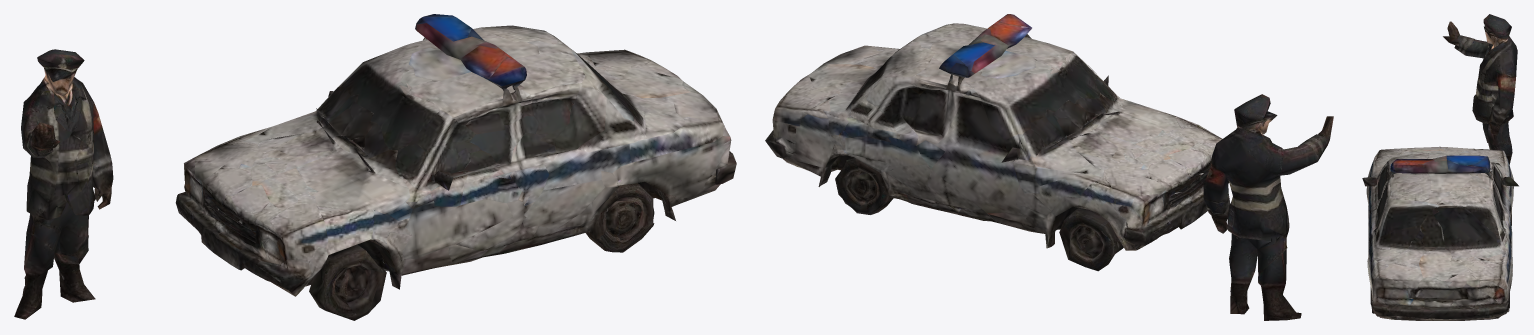
Rendered from post1.glb.
3 renders of one model, left to right at view 1: azimuth 30°, elevation 25°; view 2: azimuth 150°, elevation 25°; view 3: azimuth 270°, elevation 25°, orthographic. The views are drawn at different scales.
Size of the model in its own units: 190 by 71.51 by 64.22.
Materials: 1 (1 with a texture image).
